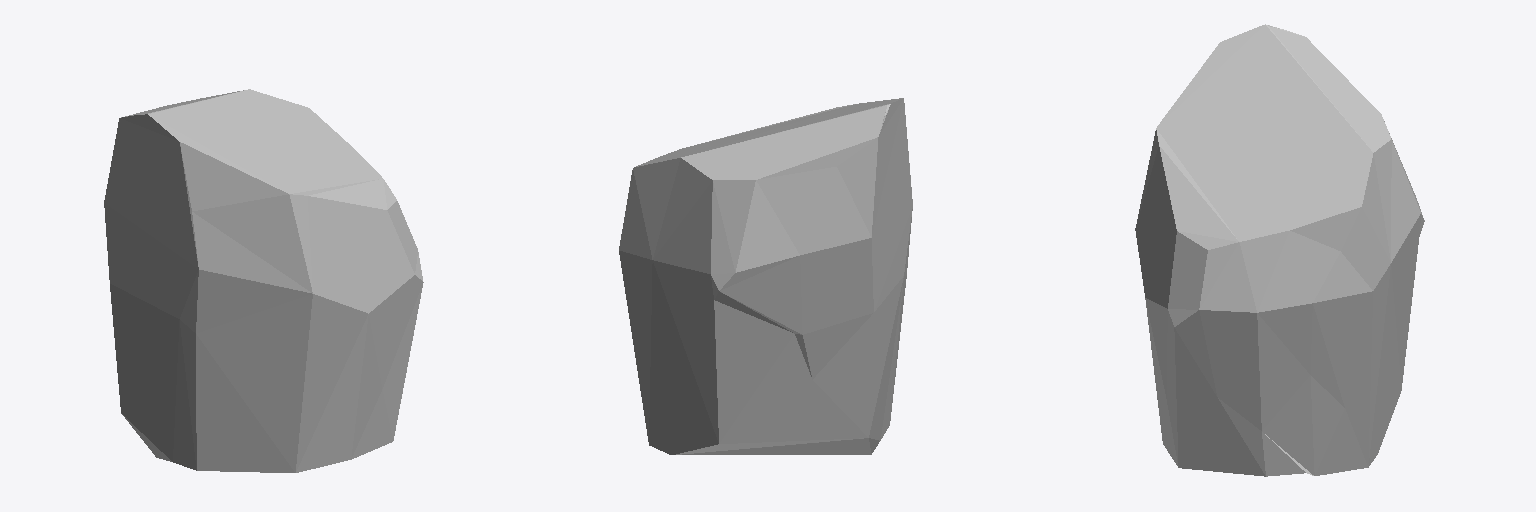
Rendered from sm_rock9.OBJ.
3 views of the same model, side by side, from view 1: azimuth 30°, elevation 25°; view 2: azimuth 150°, elevation 25°; view 3: azimuth 270°, elevation 25° (orthographic).
Visible parts, largest first — view 1: ZBrushPolyMesh3D; view 2: ZBrushPolyMesh3D; view 3: ZBrushPolyMesh3D.
Boxes of the visible parts, box(x1,y1,x2,y2) form: ZBrushPolyMesh3D: box(104, 89, 423, 472); ZBrushPolyMesh3D: box(619, 98, 912, 454); ZBrushPolyMesh3D: box(1135, 24, 1424, 476).
Bounding box in the file's own units: 1.95 × 2.56 × 1.91.